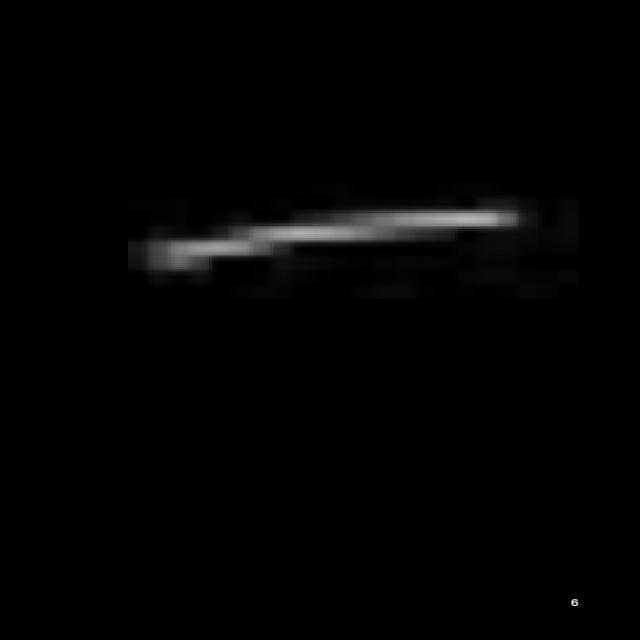1 -one-: (142, 200, 532, 272)
